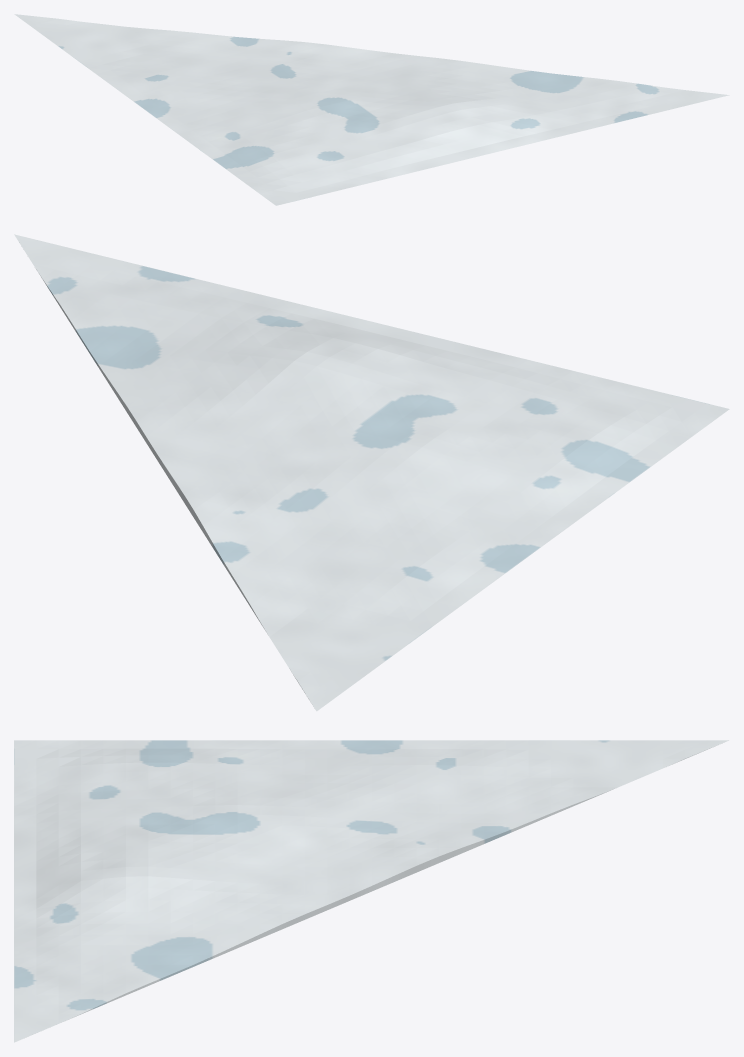
The model's file is Snow_Flat_02_NW.obj.
The picture shows the model from 3 angles, top to bottom: view 1: azimuth 30°, elevation 25°; view 2: azimuth 150°, elevation 25°; view 3: azimuth 270°, elevation 25°; orthographic projection. The views are drawn at different scales.
Bounding box in the file's own units: 10 × 0.2369 × 10.
Materials: 1 (1 with a texture image).
